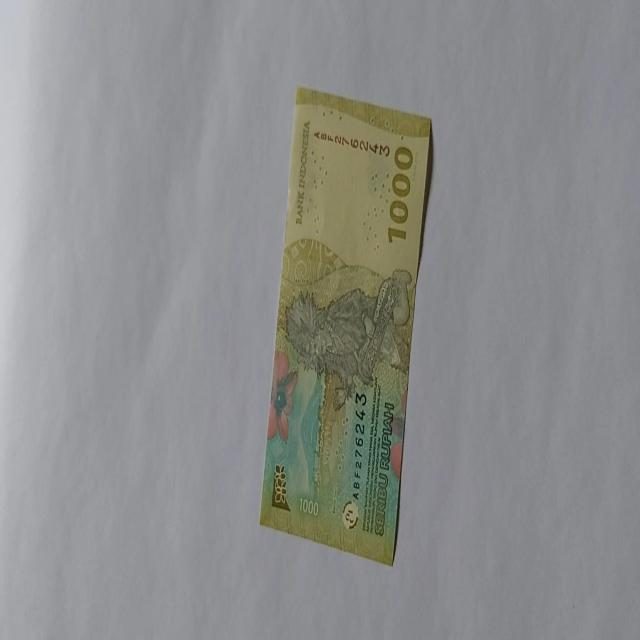seribu rupiah kertas: (258, 86, 432, 566)
